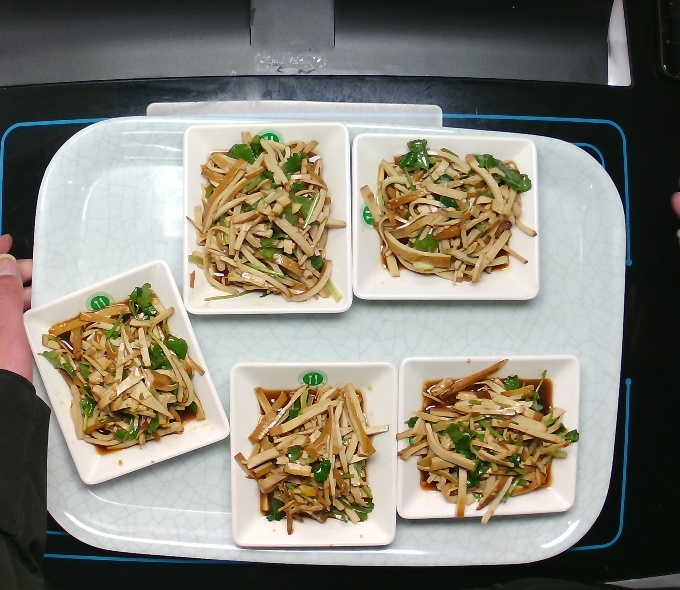wcq-LiangBanDouGan: (393, 346, 584, 529), (36, 279, 215, 461), (180, 125, 349, 314), (359, 135, 543, 289), (233, 368, 391, 542)
